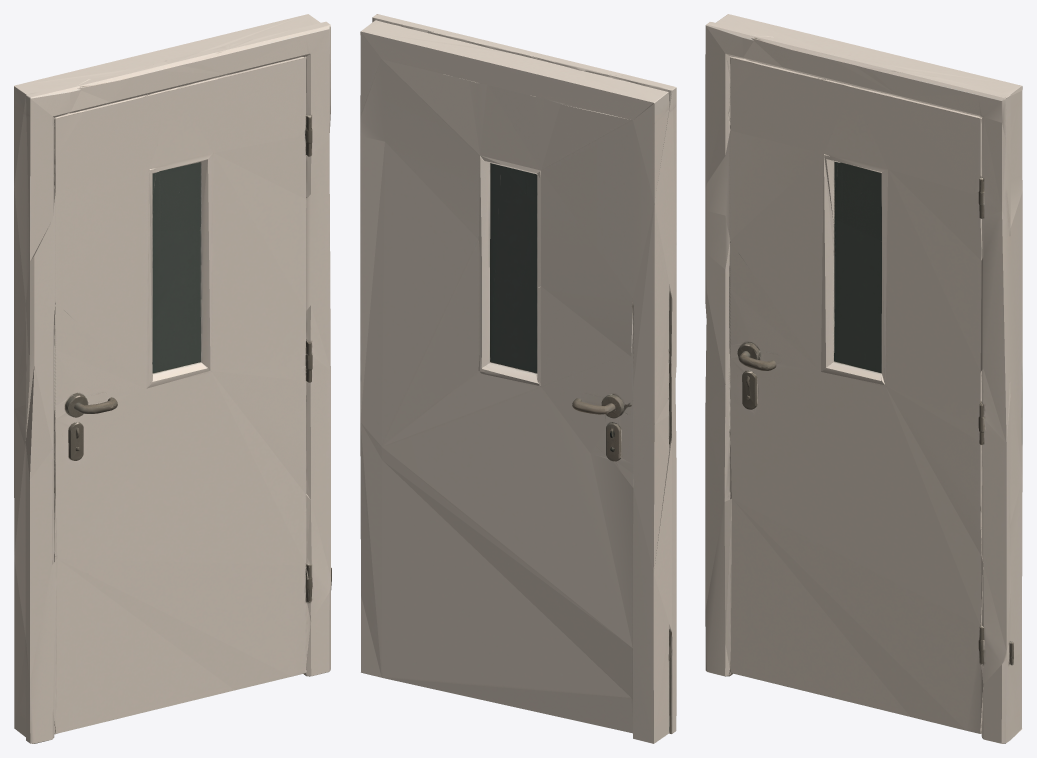
The model's file is vision_door.glb.
3 renders of one model, left to right at view 1: azimuth 30°, elevation 25°; view 2: azimuth 150°, elevation 25°; view 3: azimuth 330°, elevation 25°, orthographic.
Visible parts, largest first — view 1: Mesh_0; view 2: Mesh_0; view 3: Mesh_0.
Part boxes in pixels (x1,y1,x2,y2): Mesh_0: [14, 14, 331, 743]; Mesh_0: [360, 14, 676, 743]; Mesh_0: [705, 14, 1022, 743].
Bounding box in the file's own units: 0.9402 × 1.9 × 0.2373.
1 material, 1 textured.
